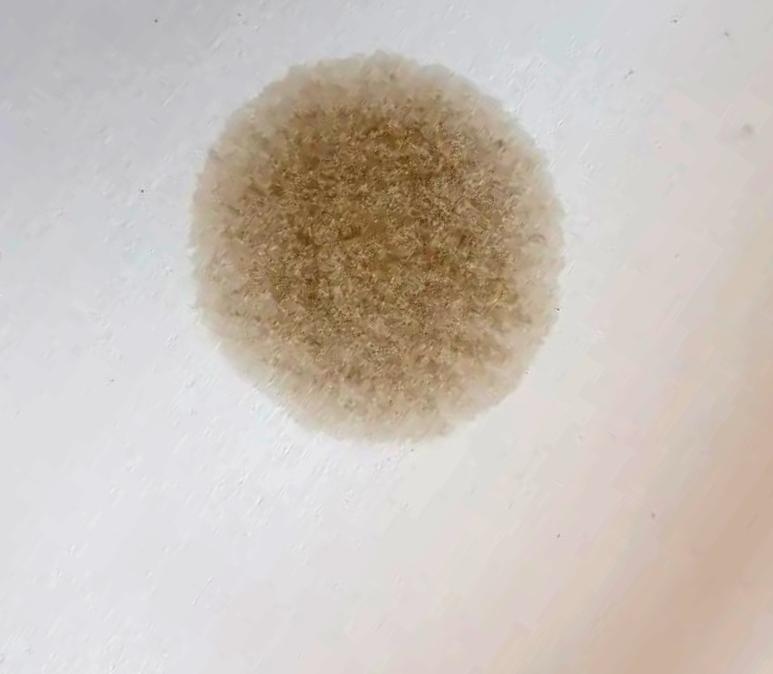stain: (191, 44, 573, 453)
